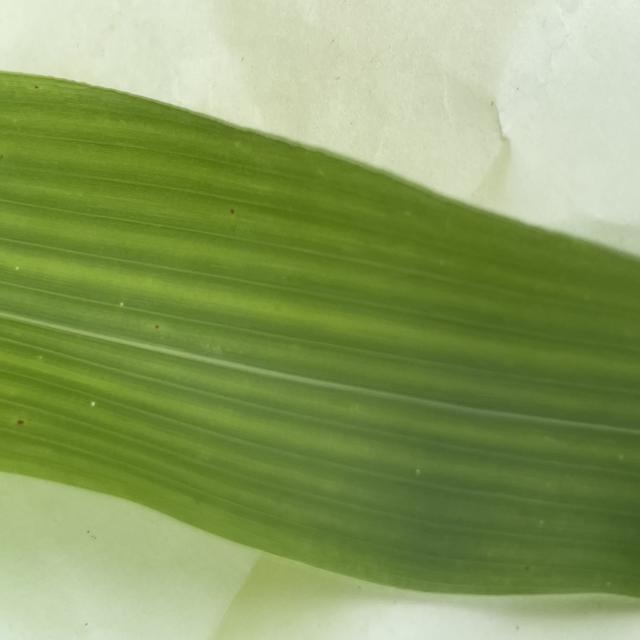millet_healthy: (0, 73, 640, 596)
